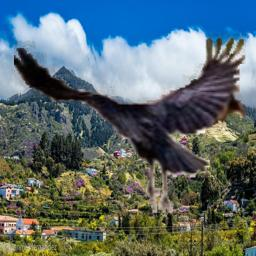Crow: (14, 34, 246, 213)
